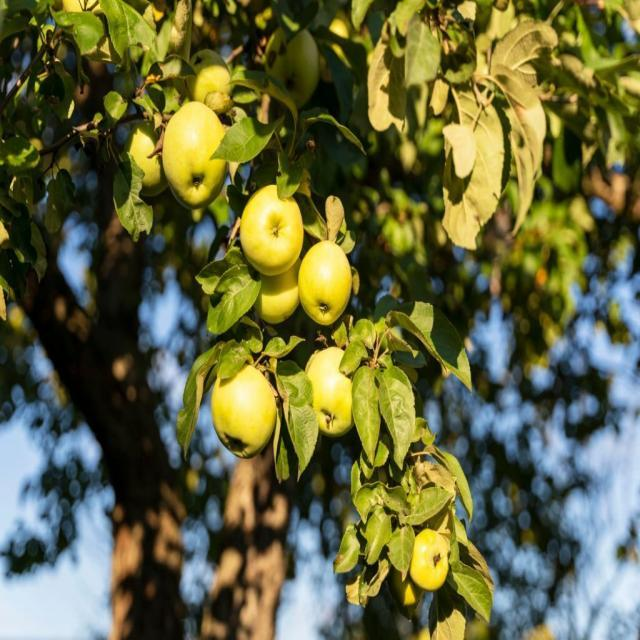Green Apple: (217, 362, 276, 461), (164, 111, 227, 198), (300, 235, 355, 329), (308, 348, 368, 426), (253, 247, 304, 331), (247, 188, 303, 262), (275, 26, 325, 101), (124, 122, 170, 199), (409, 526, 452, 597), (194, 45, 234, 110), (389, 566, 421, 612)
